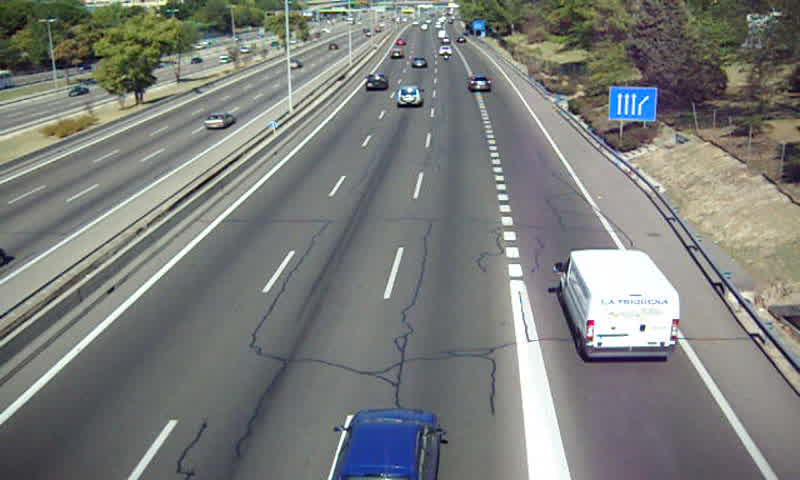car: (334, 408, 438, 480), (395, 87, 424, 109), (468, 76, 494, 94), (365, 74, 388, 92)
van: (553, 248, 680, 360)
